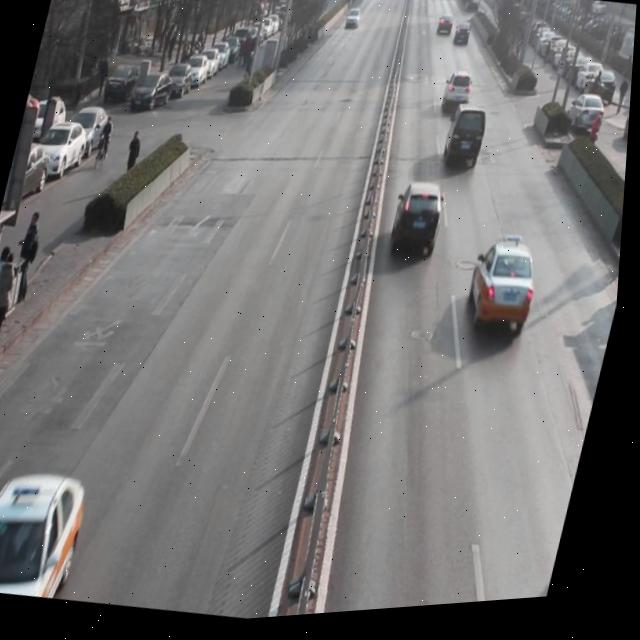car: (0, 463, 100, 607), (462, 239, 553, 355), (387, 187, 454, 275), (442, 73, 477, 126), (452, 25, 474, 56), (342, 7, 364, 38), (436, 17, 457, 44)
truck: (441, 104, 494, 179)
